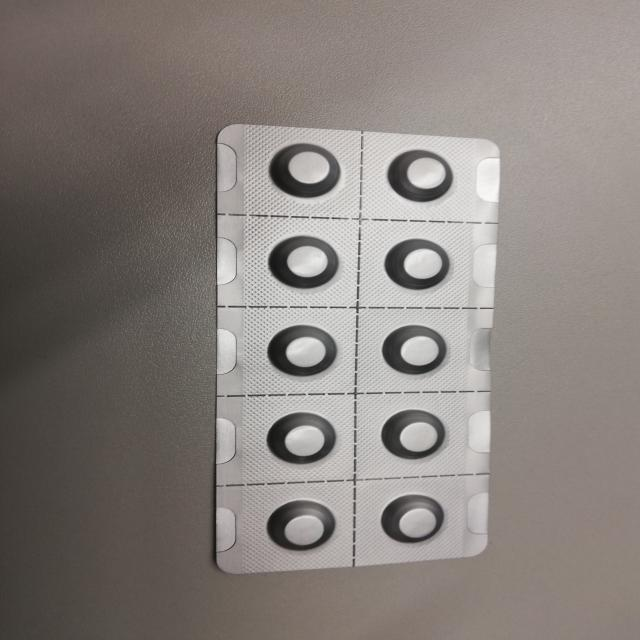Pill: (261, 136, 350, 202), (378, 142, 459, 208), (372, 321, 461, 380), (365, 486, 448, 549), (255, 498, 342, 558), (374, 232, 463, 290), (256, 408, 337, 469), (259, 230, 335, 292), (272, 318, 337, 385), (376, 408, 454, 462)
